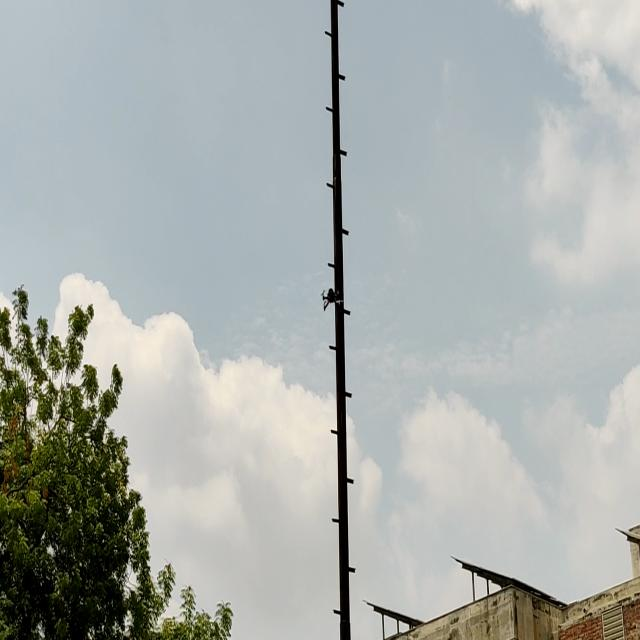drone: (315, 280, 345, 314)
